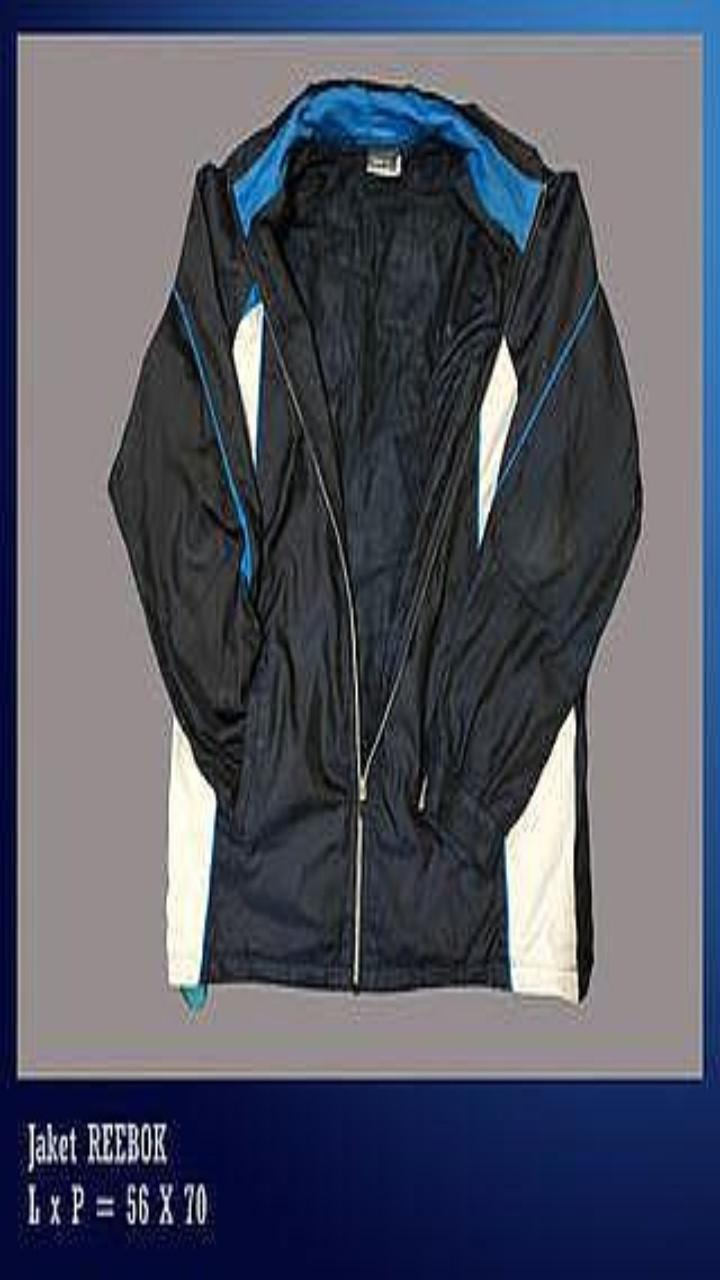Sports_Jacket: (110, 82, 641, 1003)
